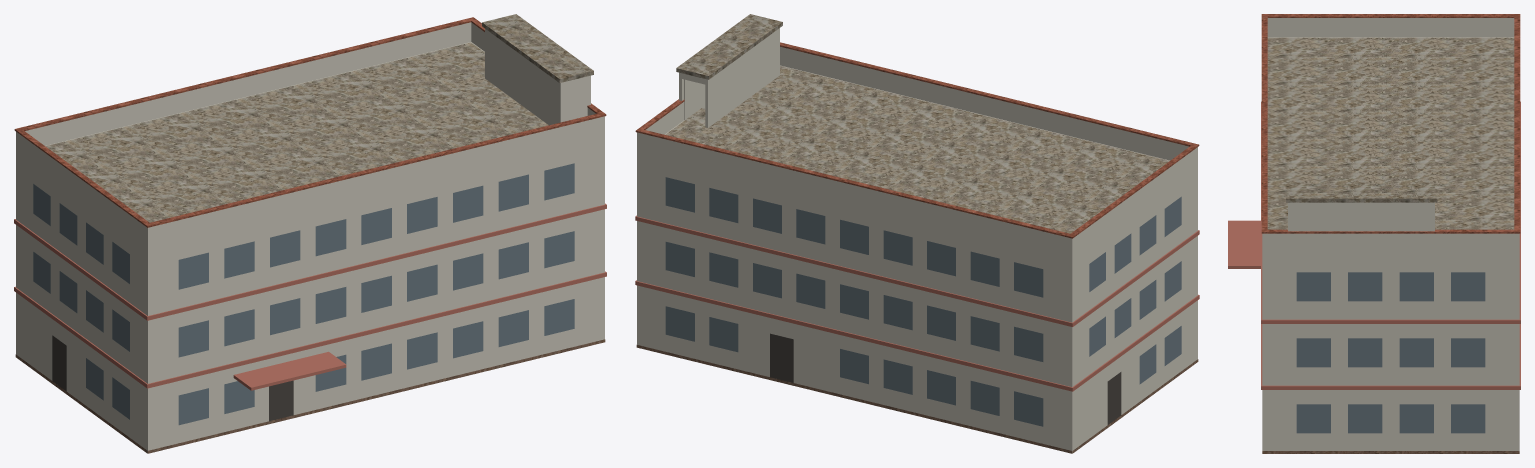
The model's file is ew-control-house.zfix-v8.lod1.glb.
3 views of the same model, side by side, from view 1: azimuth 30°, elevation 25°; view 2: azimuth 150°, elevation 25°; view 3: azimuth 270°, elevation 25° (orthographic). The views are drawn at different scales.
Visible parts, largest first — view 1: ew-control-house; view 2: ew-control-house; view 3: ew-control-house.
Boxes of the visible parts, left/top/right/bottom form: ew-control-house: left=14, top=14, right=606, bottom=453; ew-control-house: left=635, top=14, right=1199, bottom=453; ew-control-house: left=1228, top=14, right=1520, bottom=453.
Size of the model in its own units: 24.12 by 13.17 by 13.66.
2 materials, 1 textured.
